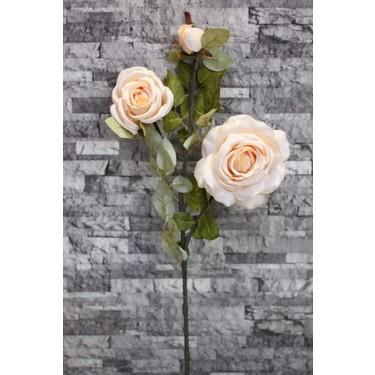Rose: (203, 93, 294, 217), (94, 67, 180, 140), (169, 14, 208, 60)
